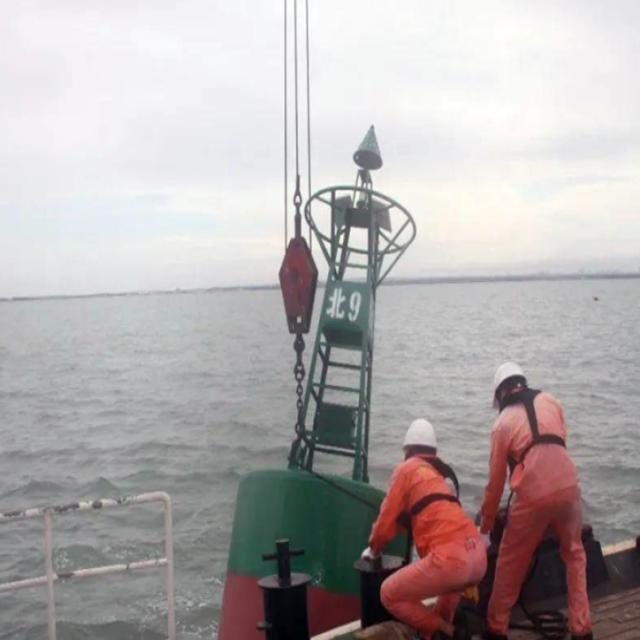buoy: (221, 127, 415, 640)
